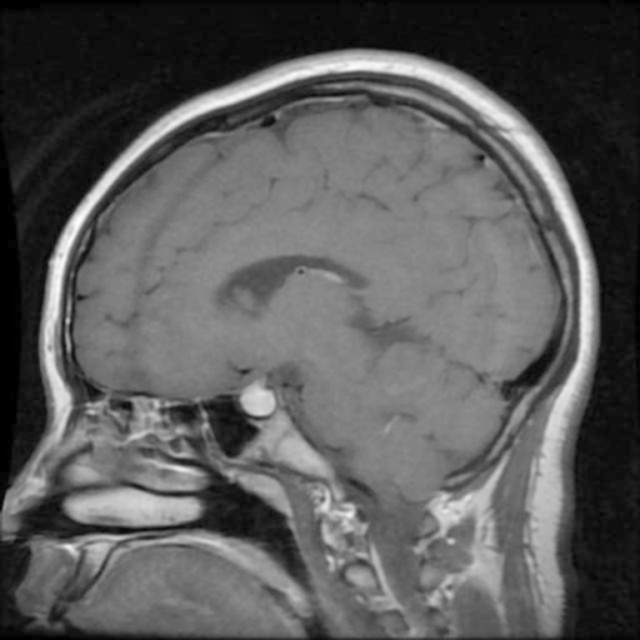no tumor: (234, 376, 290, 422)
